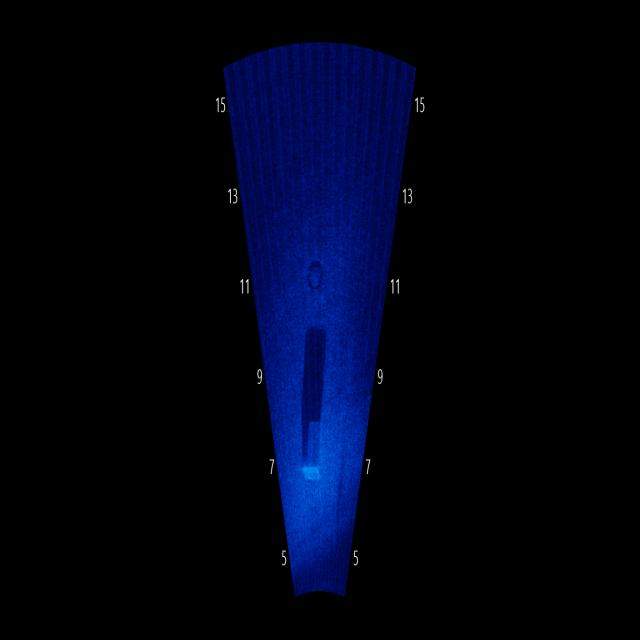circle: (305, 248, 327, 297)
square: (294, 413, 330, 490)
